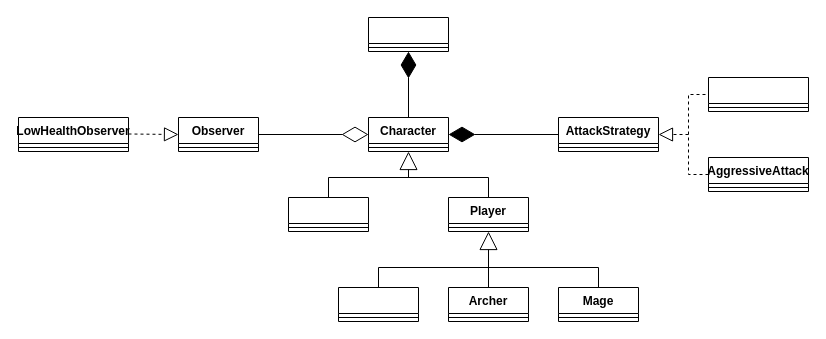
The diagram is 826 pixels wide and 339 high, and some of its shapes have lost their labels. The centre of each missing label's shape, as x and y in pixels:
Enemy: [328,214]
GameEngine: [408,34]
NormalAttack: [758,94]
Warrior: [378,304]
